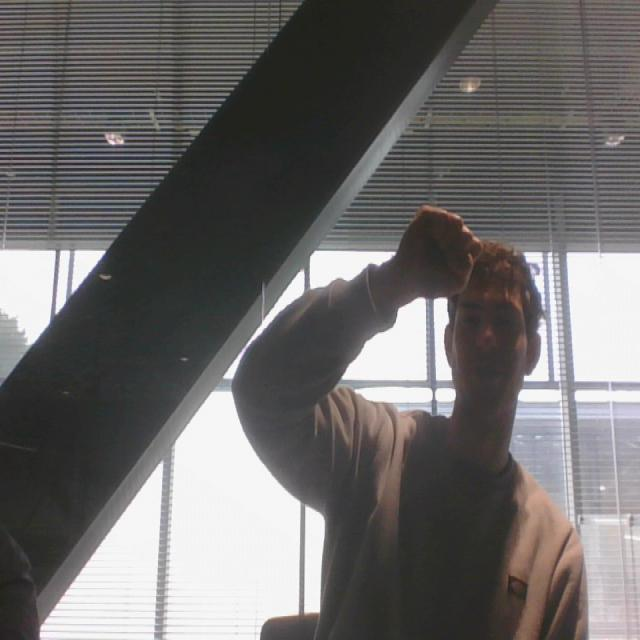stop: (391, 195, 483, 318)
